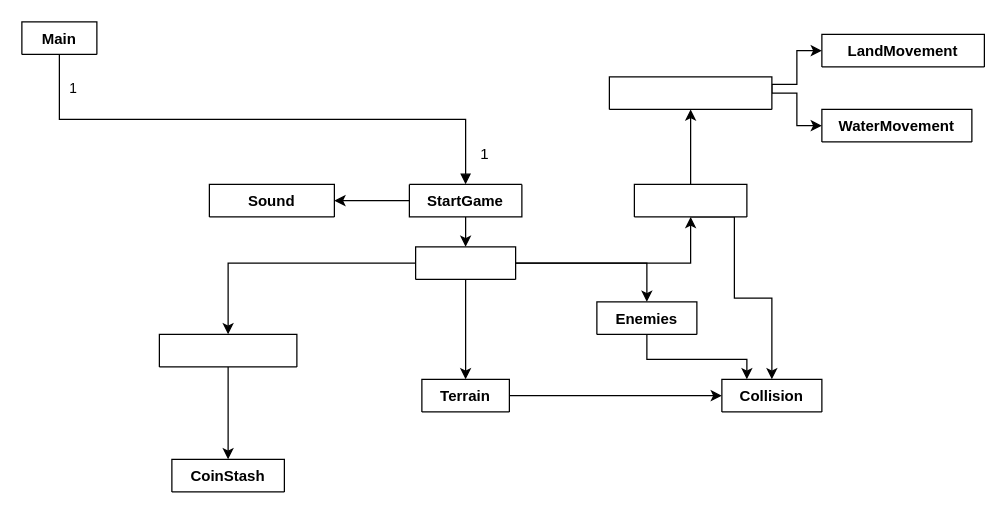
This 1006x524 diagram has some shape labels left out. Here are the shapes that lost their labels. From the top down, the centre of each, then its label:
At point (690, 92): "Movement".
At point (690, 200): "Character".
At point (465, 262): "Display".
At point (227, 350): "ScoreTracker".
